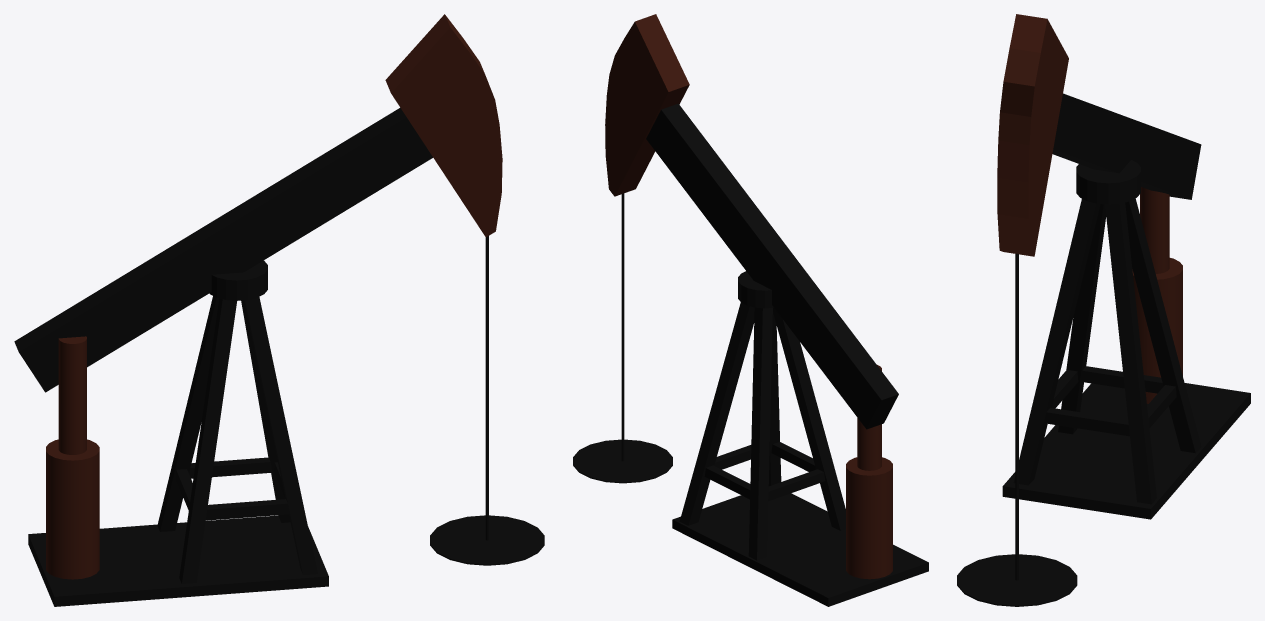
Rendered from Oil pump.obj.
3 renders of one model, left to right at view 1: azimuth 30°, elevation 25°; view 2: azimuth 150°, elevation 25°; view 3: azimuth 270°, elevation 25°, orthographic. The views are drawn at different scales.
Visible parts, largest first — view 1: Box010, Box001, Box011, Cylinder002, Box004, Box003, Cylinder005, Box005, Cylinder003, Cylinder001, Box002, Box008 (+2 smaller); view 2: Box010, Box001, Box011, Cylinder002, Box005, Box002, Box004, Cylinder005, Box003, Cylinder003, Cylinder004, Cylinder001 (+4 smaller); view 3: Box001, Box011, Box010, Box002, Box003, Box005, Cylinder005, Box004, Cylinder002, Cylinder001, Cylinder003, Box006 (+4 smaller).
Part boxes in pixels (x1,y1,x2,y2): Box010: (14,107,432,392); Box001: (28,515,328,606); Box011: (385,14,502,236); Cylinder002: (46,439,99,579); Box004: (179,298,236,583); Box003: (243,297,317,574); Cylinder005: (430,515,544,565); Box005: (157,296,219,531); Cylinder003: (58,336,86,454); Cylinder001: (209,260,267,300); Box002: (241,300,290,522); Box008: (205,499,289,520); Box010: (646,103,898,429); Box001: (672,493,928,606); Box011: (605,14,689,196); Cylinder002: (846,457,892,579); Box005: (748,307,772,560); Box002: (679,302,754,525); Box004: (773,307,845,530); Cylinder005: (573,439,672,483); Box003: (768,312,781,486); Cylinder003: (857,365,881,470); Cylinder004: (621,193,624,461); Cylinder001: (738,271,773,308); Box001: (1002,383,1250,519); Box011: (997,14,1068,256); Box010: (1052,93,1201,199); Box002: (1105,202,1156,504); Box003: (1013,199,1100,485); Box005: (1125,198,1201,453); Cylinder005: (957,554,1077,606); Box004: (1058,204,1106,434); Cylinder002: (1132,258,1182,403); Cylinder001: (1076,160,1140,204); Cylinder003: (1140,187,1169,273); Box006: (1044,407,1129,436).
Bounding box in the file's own units: 467497 × 527577 × 256225.
